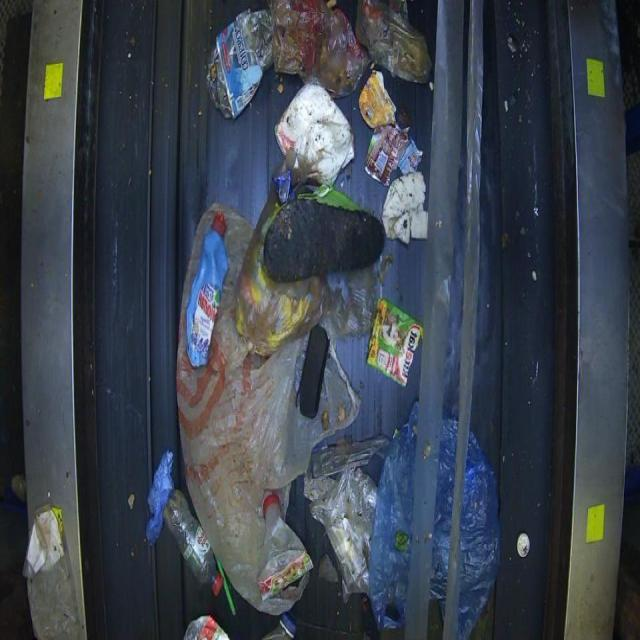trashbin: (11, 0, 634, 639)
